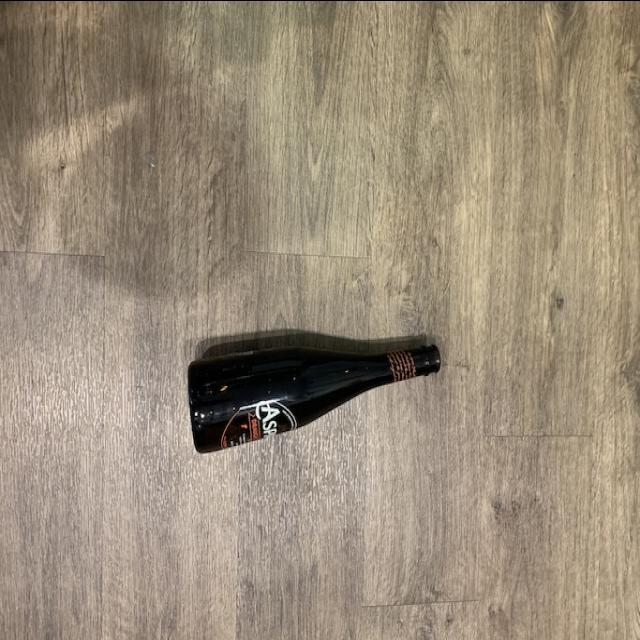litter: (186, 328, 440, 458)
